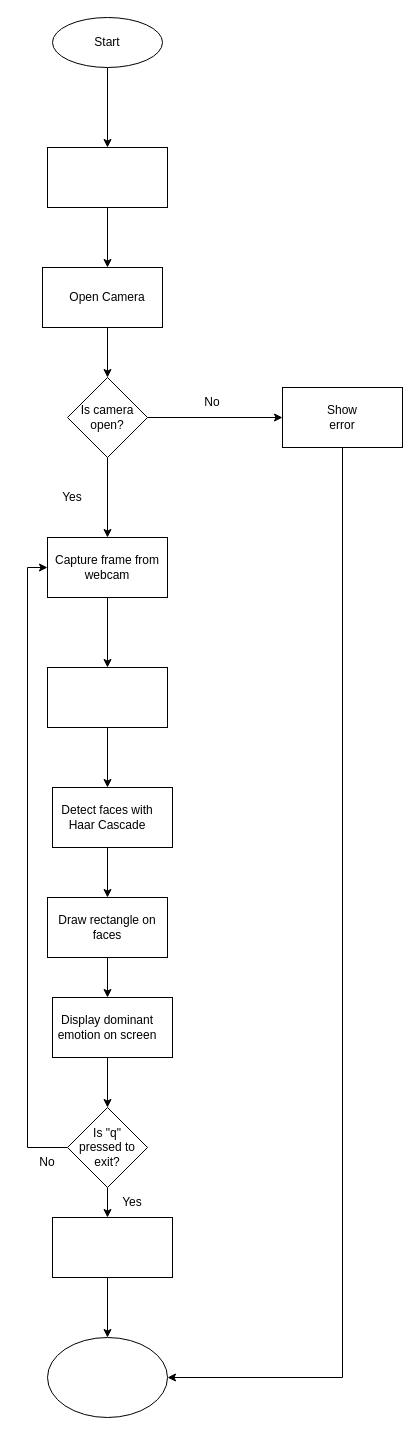
Some shapes in this 420 by 1435 pixel diagram are drawn without their labels. The shapes that lost their labels are listed below. From the top down, each one's centre as x and y in pixels, then its label:
At (x=107, y=177): "Load Haar Cascade Classifier".
At (x=107, y=697): "Analyze frame with DeepFace".
At (x=112, y=1247): "Release camera and close windows".
At (x=107, y=1377): "End".
